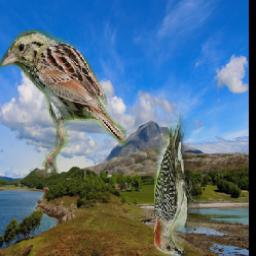Sparrow: (1, 30, 127, 174)
Woodpecker: (154, 114, 199, 256)
